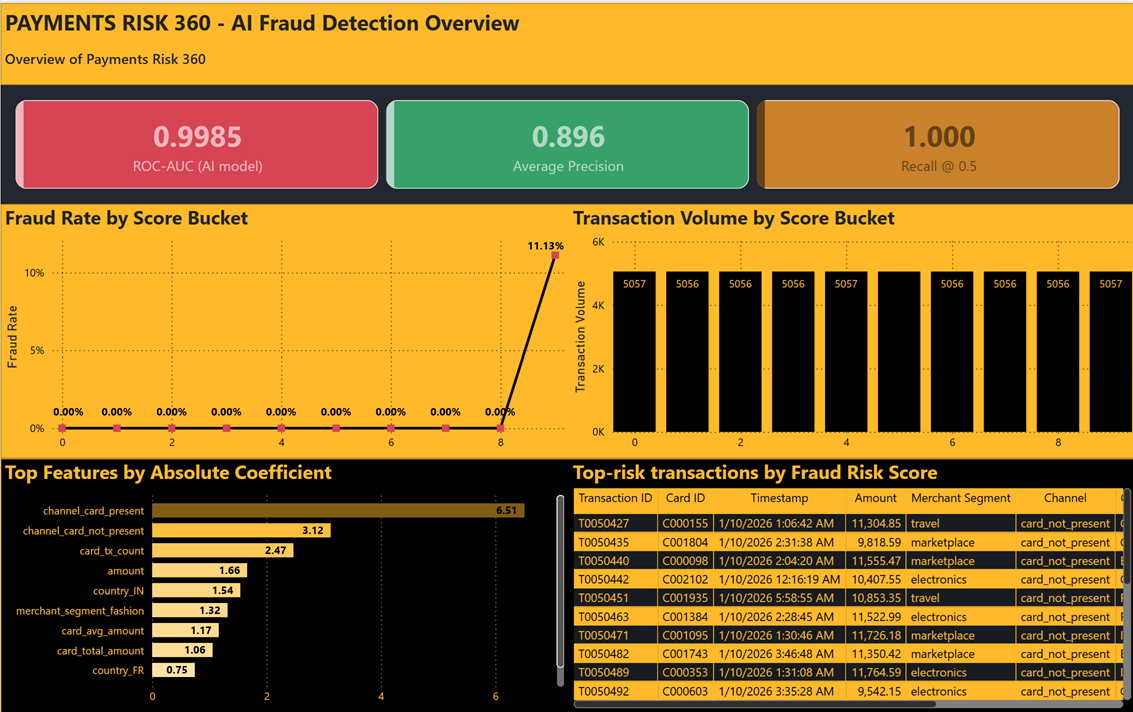

What the dashboard file says about the page in this screenshot:
{"tool":"powerbi","page":{"name":"AI Fraud Detection","canvas":[1280,800],"ordinal":5},"visuals":[{"type":"shape","title":"Title_Shape","box":[0,0,1280,92.5],"z":0,"group":"g3"},{"type":"shape","title":"Middle_Row_Shape","box":[0,226.7,1280,286.4],"z":0,"group":"g2"},{"type":"group","id":"g1","title":"Bottom_Group","box":[0,513.1,1280,287.6],"z":0},{"type":"shape","title":"Bottom_Row_Shape","box":[0,513.1,1280,287.6],"z":0,"group":"g1"},{"type":"clusteredColumnChart","fields":{"Category":["fraud_score_buckets_summary.score_bucket"],"Y":["Sum(fraud_score_buckets_summary.tx_count)"]},"box":[640.6,226.7,640.6,286.4],"z":250,"group":"g2"},{"type":"lineChart","fields":{"Y":["Sum(fraud_score_buckets_summary.fraud_rate)"],"Category":["fraud_score_buckets_summary.score_bucket"]},"box":[0,226.7,640.6,286.4],"z":500,"group":"g2"},{"type":"textbox","title":"Subtitle_ Textbox","box":[0,46.2,640.6,46.2],"z":1000,"group":"g3"},{"type":"group","id":"g2","title":"Middle_Row_Group","box":[0,226.7,1281.1,286.4],"z":1000},{"type":"textbox","title":"Title_ Textbox","box":[0,0,640.6,46.2],"z":2000,"group":"g3"},{"type":"cardVisual","title":"KPI_Card","fields":{"Data":["Sum(fraud_ml_metrics.roc_auc)","Sum(fraud_ml_metrics.average_precision)","Sum(fraud_ml_metrics.recall_at_0_5)"]},"box":[0,92.5,1280,134.2],"z":2000},{"type":"group","id":"g3","title":"Title_Group","box":[0,0,1280,92.5],"z":3000},{"type":"clusteredBarChart","title":"Top Features by Absolute Coefficient","fields":{"Category":["fraud_ml_feature_importance.feature"],"Y":["Sum(fraud_ml_feature_importance.abs_coefficient)"]},"box":[0,513.1,640.6,286.4],"z":3001,"group":"g1"},{"type":"tableEx","title":"Top-risk transactions by Fraud Risk Score","fields":{"Values":["fraud_transactions_with_scores.transaction_id","fraud_transactions_with_scores.card_id","fraud_transactions_with_scores.timestamp","Sum(fraud_transactions_with_scores.amount)","fraud_transactions_with_scores.merchant_segment","fraud_transactions_with_scores.channel","fraud_transactions_with_scores.country","fraud_transactions_with_scores.is_fraud","fraud_transactions_with_scores.any_rule_hit","Sum(fraud_transactions_with_scores.fraud_risk_score)"]},"box":[640.6,513.1,639.4,286.4],"z":3001}]}

Visuals, with their boxes in screenshot pixels (x1, y1, x2, y2), scaled from the page's 1280x800 canvas onto the 1133x712 screenshot:
"Title_Shape" shape: region(0, 0, 1132, 82)
"Middle_Row_Shape" shape: region(0, 202, 1132, 457)
"Bottom_Group" group: region(0, 457, 1132, 711)
"Bottom_Row_Shape" shape: region(0, 457, 1132, 711)
clusteredColumnChart - fraud_score_buckets_summary.score_bucket x Sum(fraud_score_buckets_summary.tx_count): region(567, 202, 1132, 457)
lineChart - Sum(fraud_score_buckets_summary.fraud_rate) x fraud_score_buckets_summary.score_bucket: region(0, 202, 567, 457)
"Subtitle_ Textbox" textbox: region(0, 41, 567, 82)
"Middle_Row_Group" group: region(0, 202, 1132, 457)
"Title_ Textbox" textbox: region(0, 0, 567, 41)
"KPI_Card" cardVisual: region(0, 82, 1132, 202)
"Title_Group" group: region(0, 0, 1132, 82)
"Top Features by Absolute Coefficient" clusteredBarChart: region(0, 457, 567, 711)
"Top-risk transactions by Fraud Risk Score" tableEx: region(567, 457, 1132, 711)
